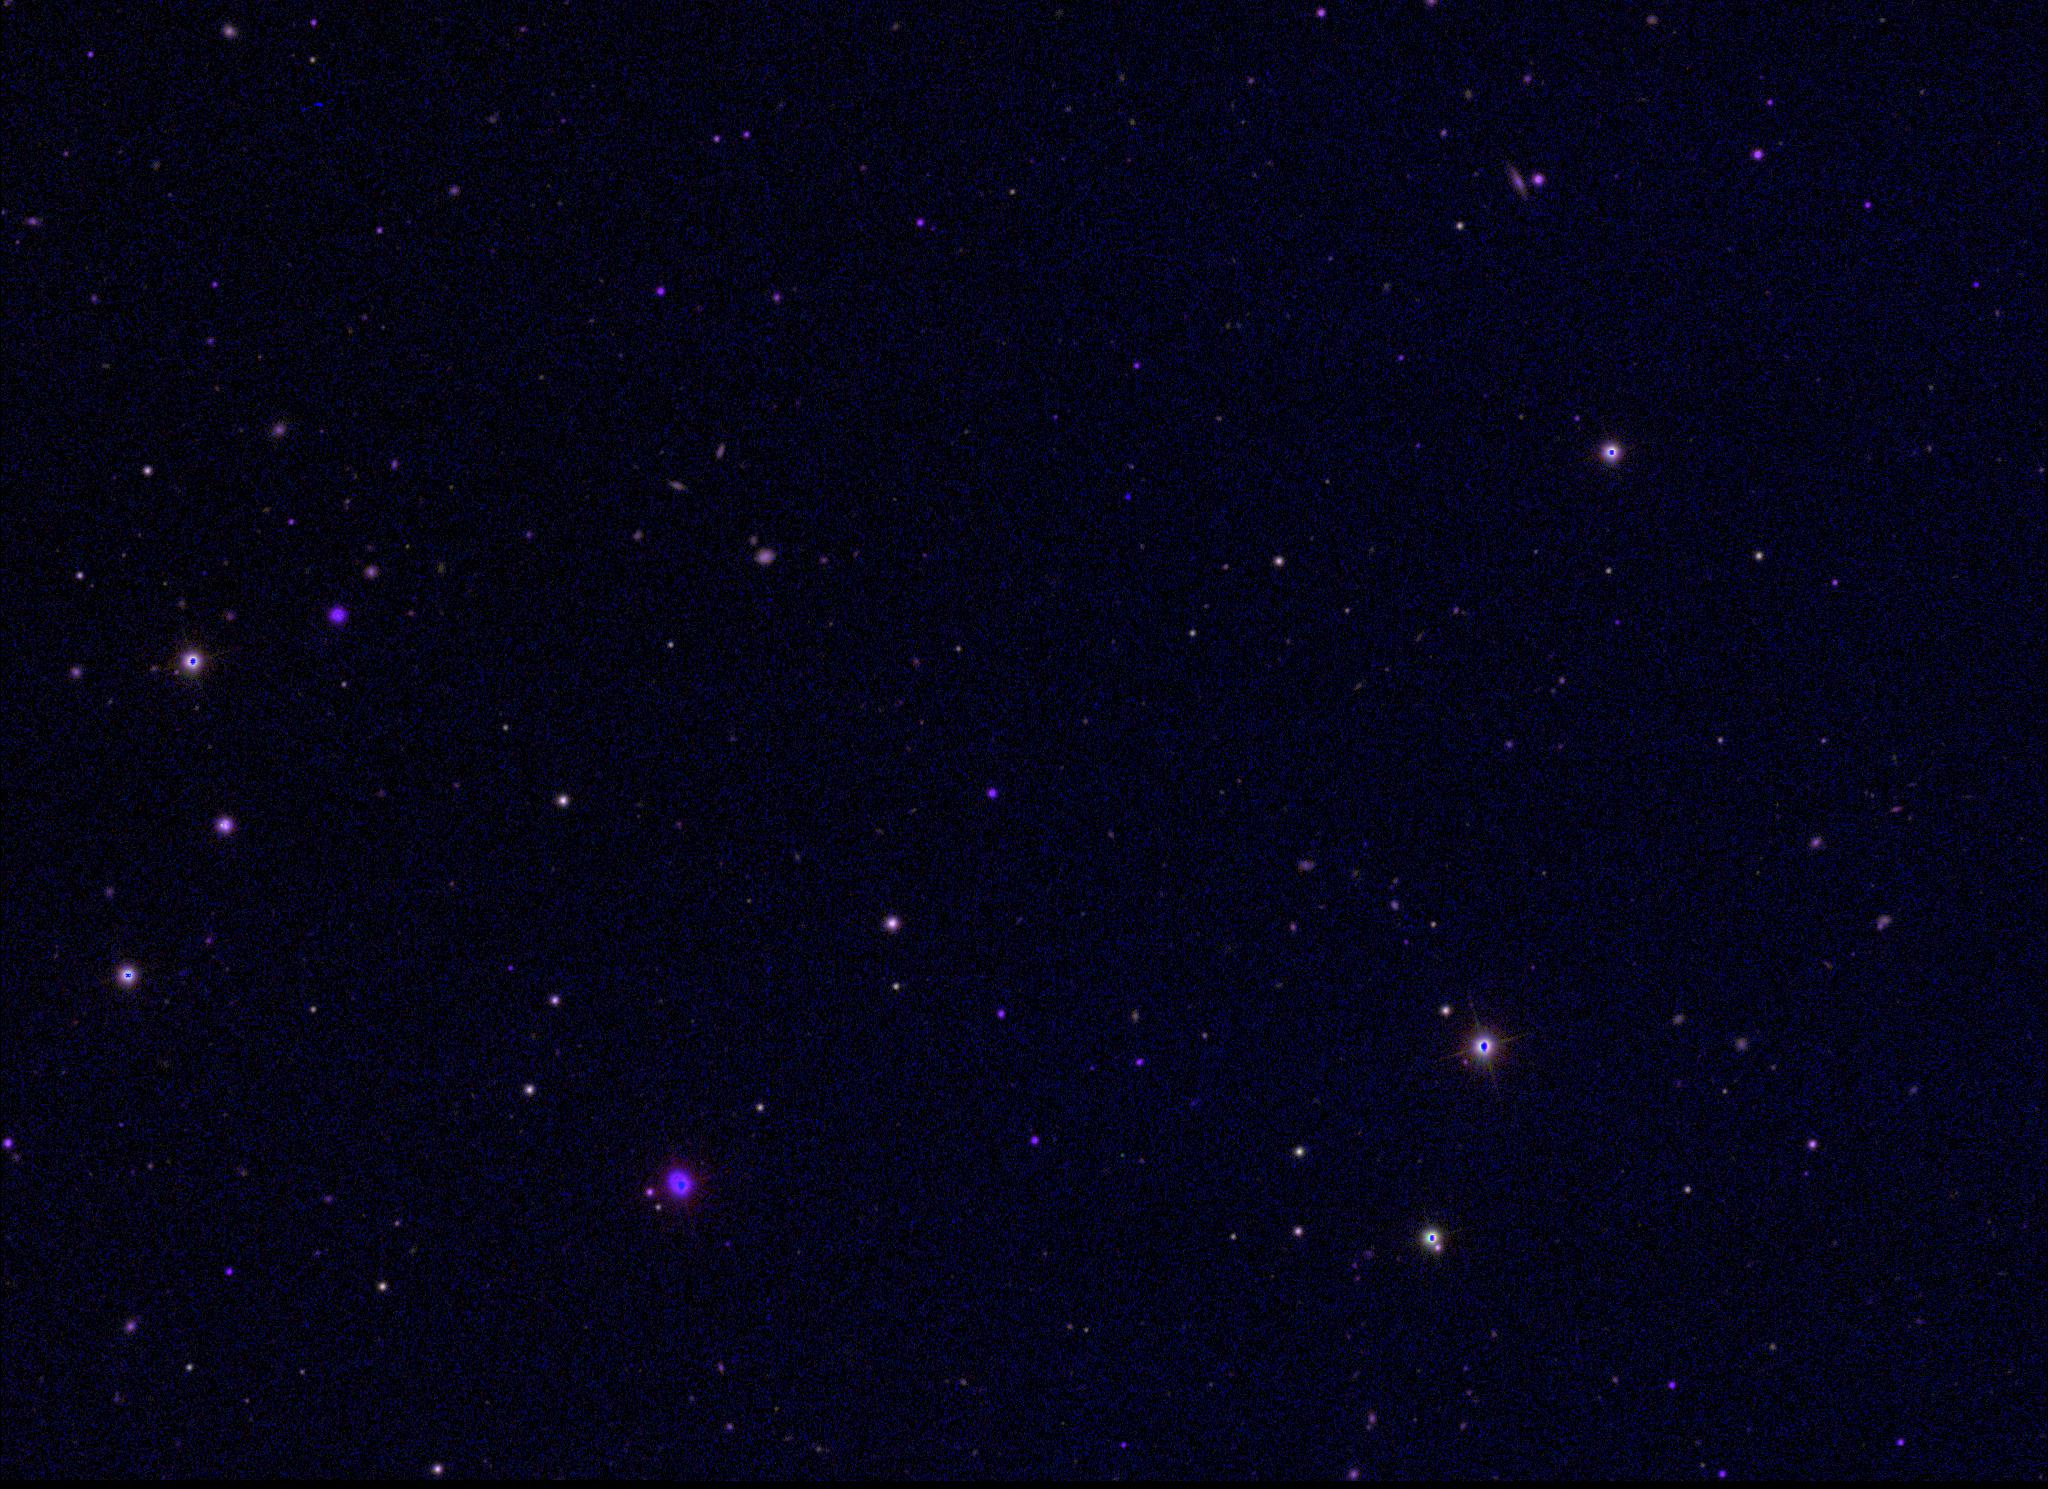L: (1123, 488, 1135, 503)
